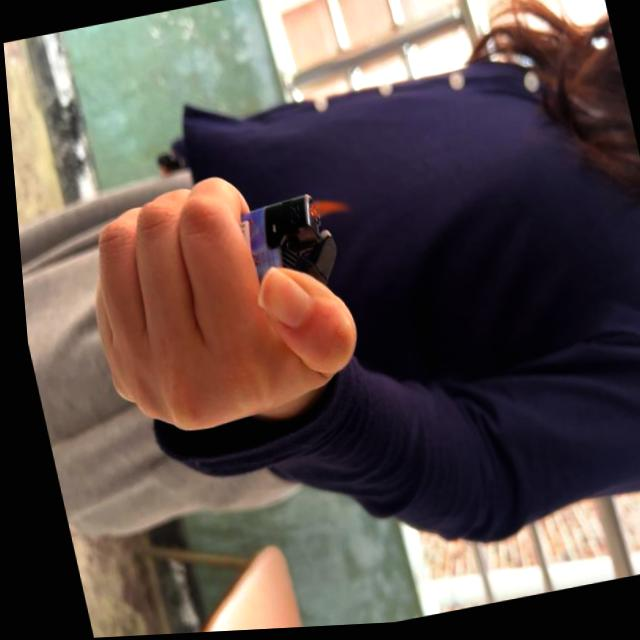Fire: (299, 191, 353, 226)
